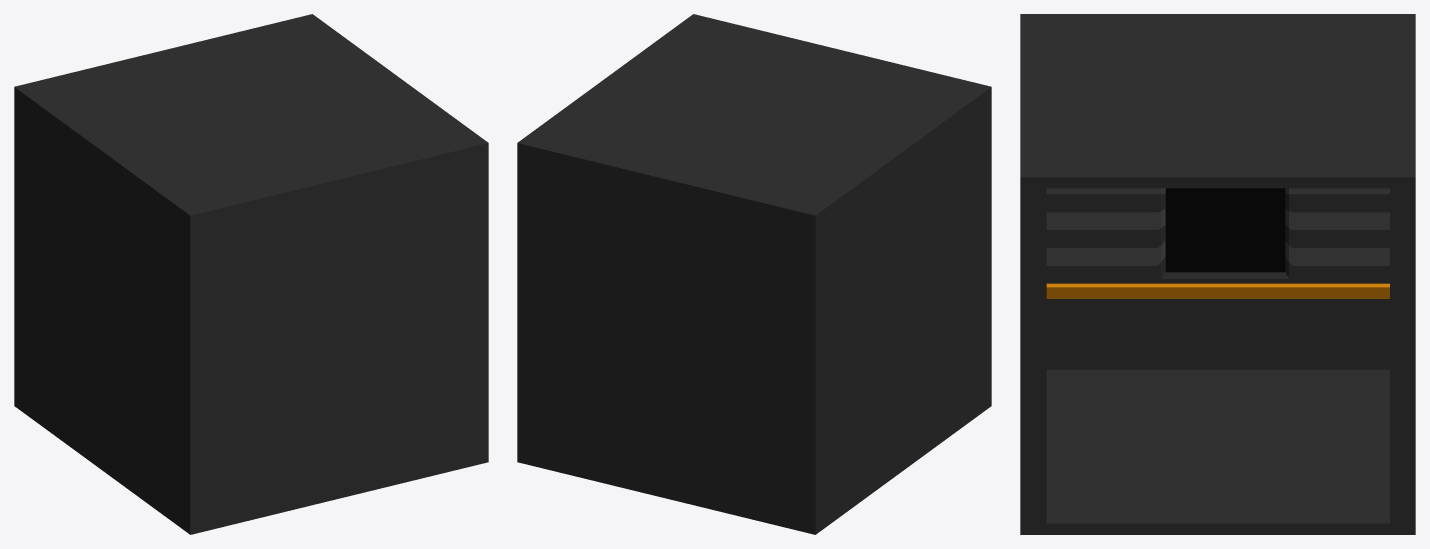
File: Elevator.fbx
3 renders of one model, left to right at view 1: azimuth 30°, elevation 25°; view 2: azimuth 150°, elevation 25°; view 3: azimuth 270°, elevation 25°, orthographic. The views are drawn at different scales.
Visible parts, largest first — view 1: Cube; view 2: Cube; view 3: Cube.
Part boxes in pixels (x1,y1,x2,y2): Cube: [14, 14, 488, 534]; Cube: [517, 14, 991, 534]; Cube: [1020, 14, 1415, 534].
Bounding box in the file's own units: 3100 × 3170 × 3172.
